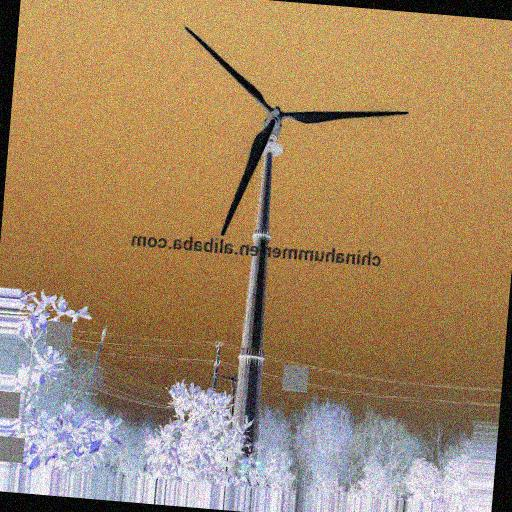wind turbine: (185, 28, 409, 460)
